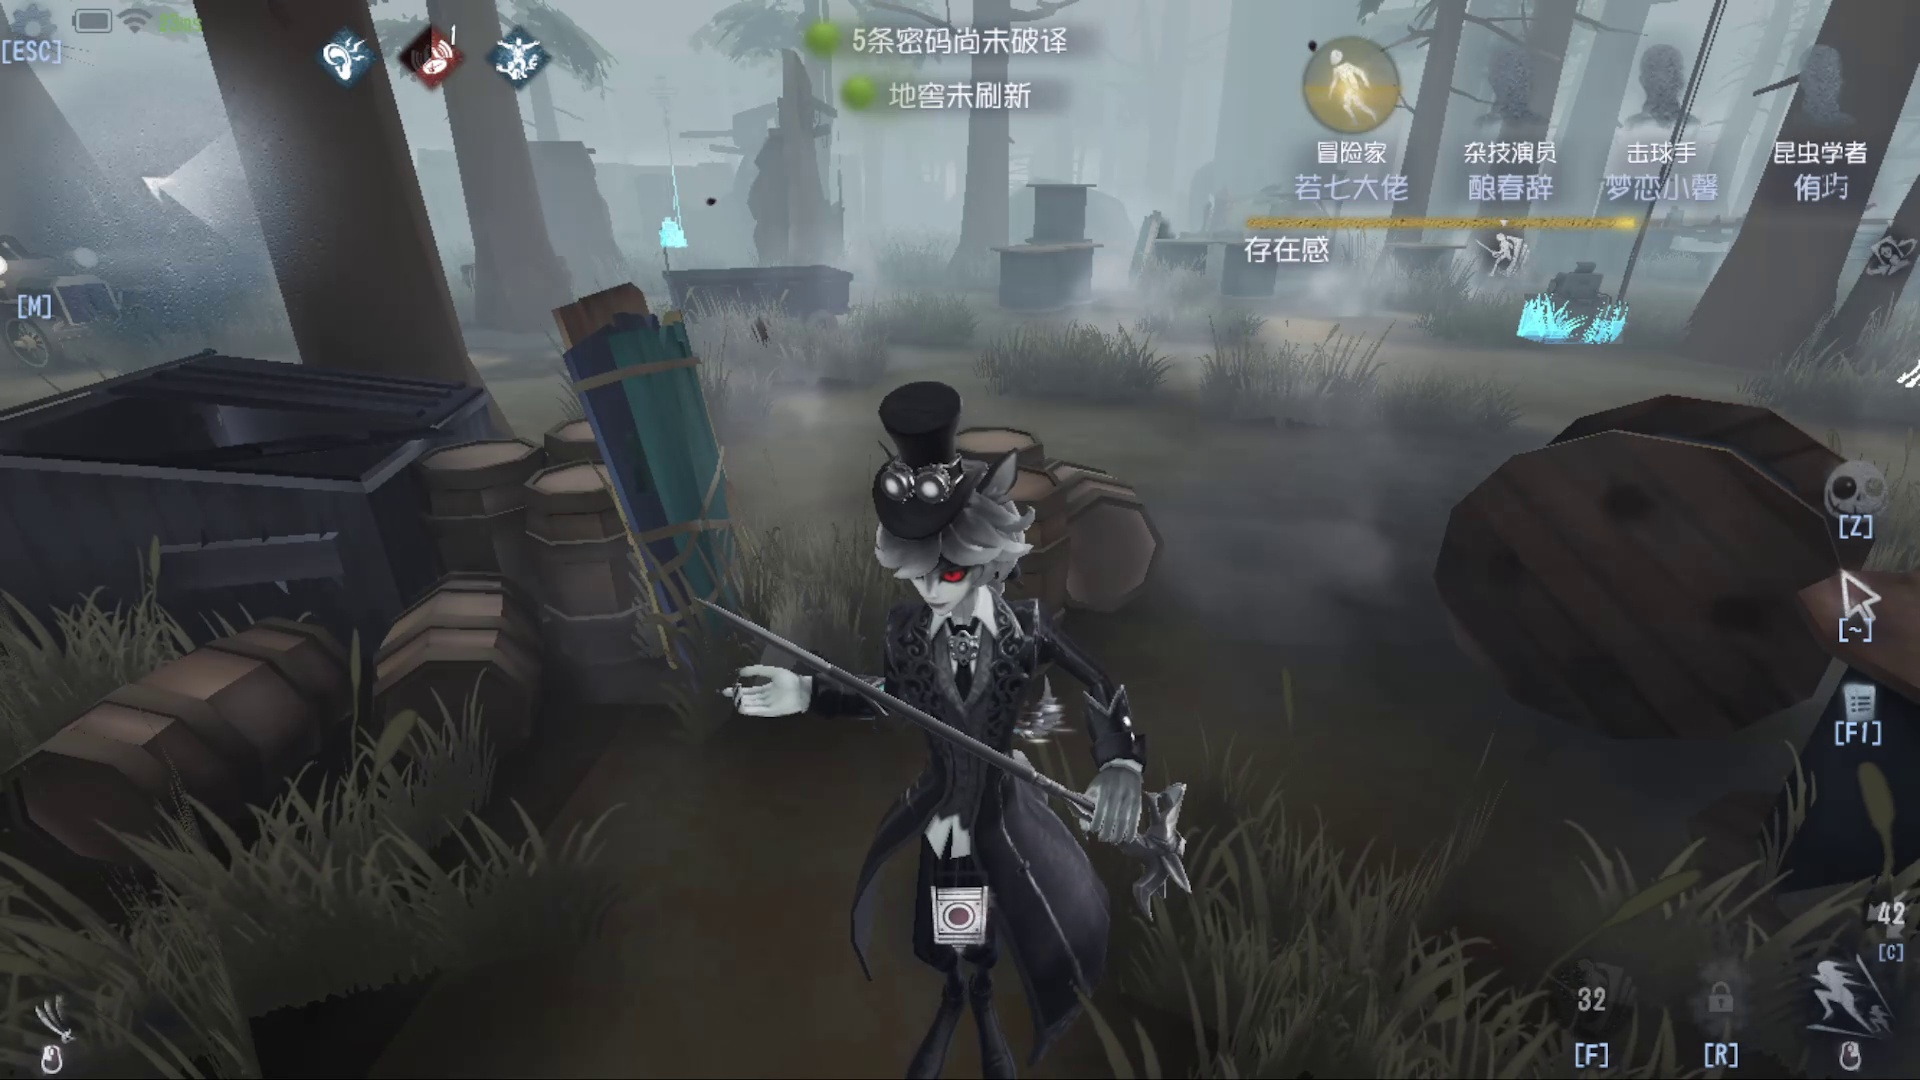密码机: (1490, 88, 1755, 342)
木板: (550, 266, 793, 708), (626, 84, 723, 285), (1122, 218, 1162, 305)
